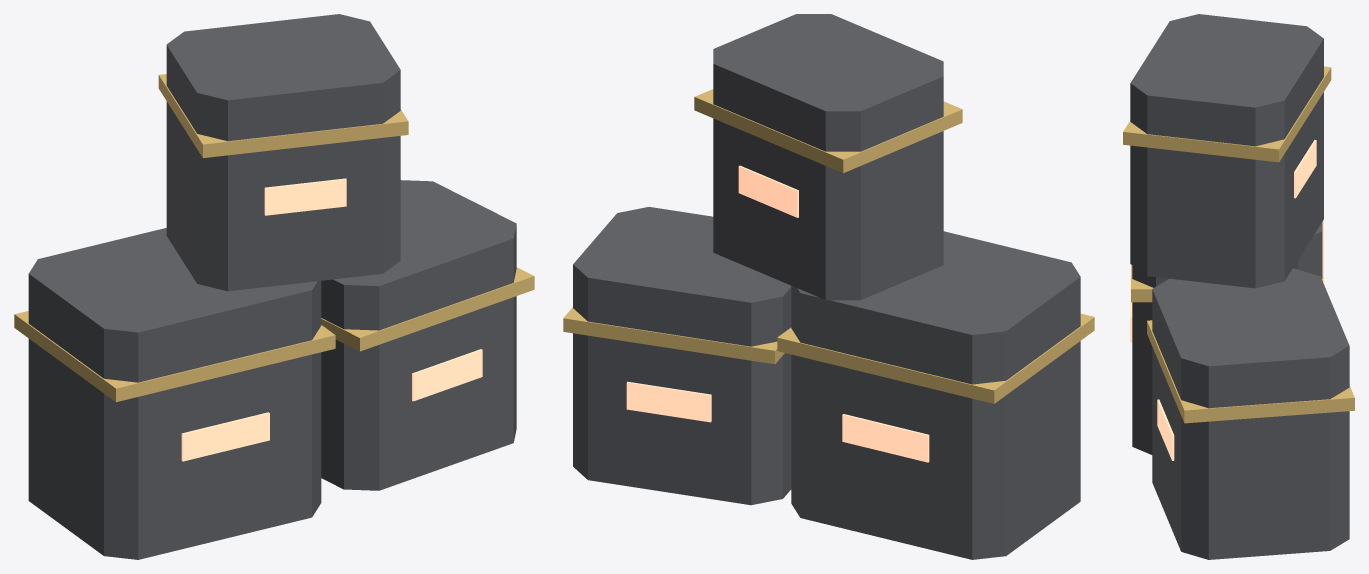
The model's file is Prop_Aegis_Crates.fbx.
The picture shows the model from 3 angles, left to right: view 1: azimuth 30°, elevation 25°; view 2: azimuth 150°, elevation 25°; view 3: azimuth 270°, elevation 25°; orthographic projection. The views are drawn at different scales.
Parts seen in each view (by area): view 1: PCR_Crate0, PCR_Crate2, PCR_Crate1, PCR_Band0, PCR_Band2, PCR_Band1, PCR_Label0, PCR_Label2, PCR_Label1; view 2: PCR_Crate0, PCR_Crate2, PCR_Crate1, PCR_Band0, PCR_Band2, PCR_Band1, PCR_Label0, PCR_Label1, PCR_Label2; view 3: PCR_Crate1, PCR_Crate2, PCR_Crate0, PCR_Band1, PCR_Band2, PCR_Label2, PCR_Band0, PCR_Label1.
Boxes of the visible parts, x1,y1,x2,y2 form: PCR_Crate0: [28, 228, 321, 559]; PCR_Crate2: [166, 14, 400, 291]; PCR_Crate1: [321, 180, 516, 490]; PCR_Band0: [14, 311, 335, 402]; PCR_Band2: [158, 74, 408, 158]; PCR_Band1: [321, 267, 534, 351]; PCR_Label0: [181, 412, 269, 461]; PCR_Label2: [264, 178, 346, 215]; PCR_Label1: [412, 349, 482, 401]; PCR_Crate0: [791, 231, 1080, 559]; PCR_Crate2: [713, 14, 943, 300]; PCR_Crate1: [573, 207, 791, 505]; PCR_Band0: [777, 313, 1094, 403]; PCR_Band2: [694, 89, 962, 173]; PCR_Band1: [563, 307, 784, 364]; PCR_Label0: [842, 414, 929, 462]; PCR_Label1: [626, 381, 711, 422]; PCR_Label2: [738, 165, 798, 217]; PCR_Crate1: [1152, 268, 1349, 559]; PCR_Crate2: [1130, 14, 1323, 288]; PCR_Crate0: [1132, 222, 1322, 454]; PCR_Band1: [1147, 320, 1354, 423]; PCR_Band2: [1123, 66, 1331, 162]; PCR_Label2: [1294, 140, 1316, 198]; PCR_Band0: [1131, 221, 1323, 302]; PCR_Label1: [1157, 399, 1174, 460].
Bounding box in the file's own units: 1.03 × 0.92 × 0.4881.
